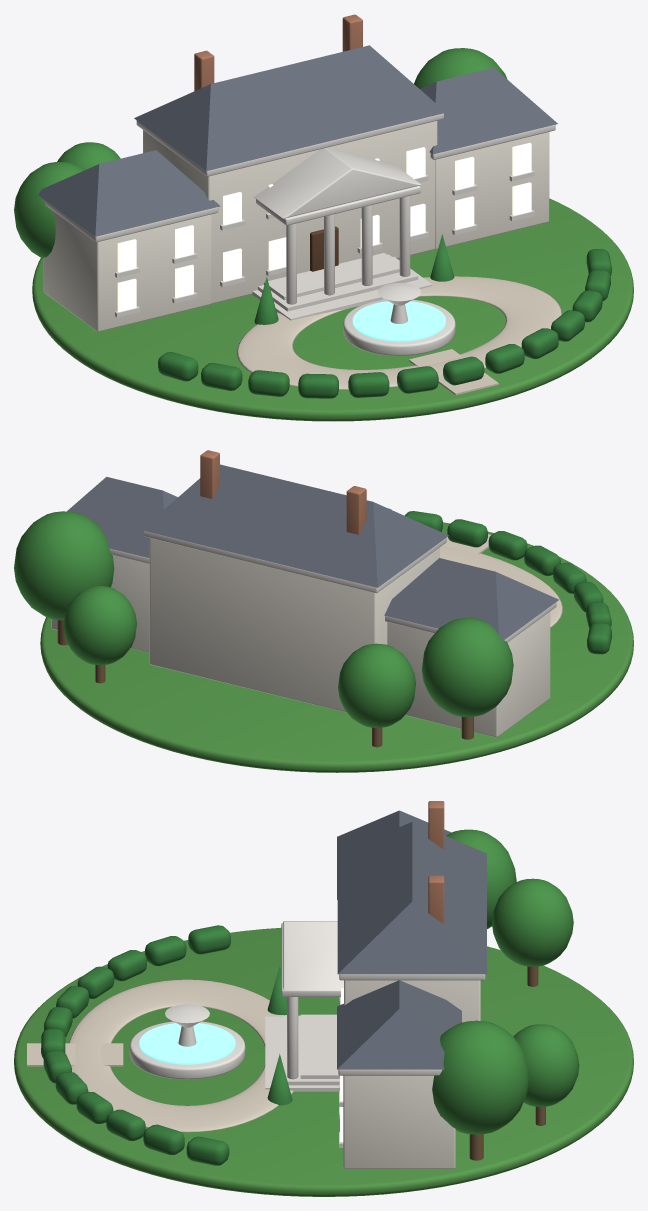
File: reward-mansion.glb
3 renders of one model, top to bottom at view 1: azimuth 30°, elevation 25°; view 2: azimuth 150°, elevation 25°; view 3: azimuth 270°, elevation 25°, orthographic. The views are drawn at different scales.
Visible parts, largest first — view 1: lawn, roof, block, block.001, drive, roof.001, block.002, roof.002, pediment, crown, water, basin (+43 smaller); view 2: lawn, block, roof, roof.001, crown.001, crown, block.001, crown.002, crown.003, roof.002, block.002, cornice (+11 smaller); view 3: lawn, roof, drive, block.002, roof.002, crown.001, crown.002, pediment, crown.003, water, basin, step.002 (+26 smaller).
Part boxes in pixels (left/top/right/bottom): lawn: left=32, top=198, right=633, bottom=421; roof: left=134, top=45, right=446, bottom=171; block: left=143, top=121, right=437, bottom=303; block.001: left=43, top=211, right=211, bottom=331; drive: left=236, top=276, right=561, bottom=389; roof.001: left=38, top=150, right=220, bottom=236; block.002: left=435, top=132, right=549, bottom=249; roof.002: left=420, top=67, right=557, bottom=154; pediment: left=254, top=147, right=421, bottom=218; crown: left=14, top=162, right=85, bottom=258; water: left=352, top=301, right=445, bottom=341; basin: left=343, top=299, right=455, bottom=355; lawn: left=40, top=522, right=633, bottom=772; block: left=149, top=538, right=439, bottom=712; roof: left=141, top=464, right=448, bottom=587; roof.001: left=384, top=558, right=558, bottom=640; crown.001: left=14, top=511, right=114, bottom=620; crown: left=422, top=618, right=513, bottom=716; block.001: left=387, top=611, right=550, bottom=737; crown.002: left=338, top=643, right=415, bottom=727; crown.003: left=63, top=586, right=136, bottom=664; roof.002: left=67, top=476, right=177, bottom=558; block.002: left=51, top=555, right=149, bottom=652; cornice: left=143, top=531, right=446, bottom=593; lawn: left=14, top=928, right=633, bottom=1196; roof: left=337, top=821, right=486, bottom=974; drive: left=69, top=979, right=293, bottom=1132; block.002: left=343, top=1075, right=455, bottom=1168; roof.002: left=337, top=980, right=461, bottom=1069; crown.001: left=432, top=1020, right=529, bottom=1134; crown.002: left=492, top=878, right=573, bottom=966; pediment: left=283, top=921, right=343, bottom=990; crown.003: left=513, top=1024, right=579, bottom=1106; water: left=139, top=1023, right=235, bottom=1064; basin: left=129, top=1021, right=245, bottom=1079; step.002: left=300, top=1014, right=339, bottom=1078.
Bounding box in the file's own units: 3.86 × 1.56 × 3.86.
